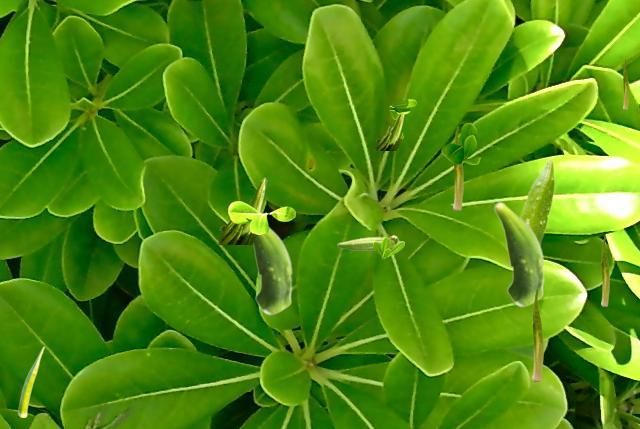okra: (493, 201, 544, 306), (252, 226, 292, 314), (217, 177, 266, 243), (520, 158, 554, 244), (18, 346, 43, 416), (374, 115, 404, 149), (532, 288, 542, 380), (337, 235, 399, 249), (453, 126, 462, 209), (601, 235, 608, 305), (623, 59, 627, 108)
